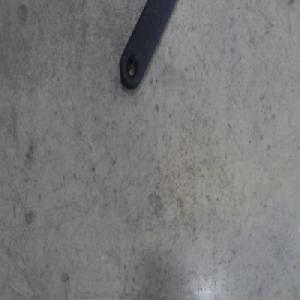AdjustableWrench: (119, 0, 175, 90)
